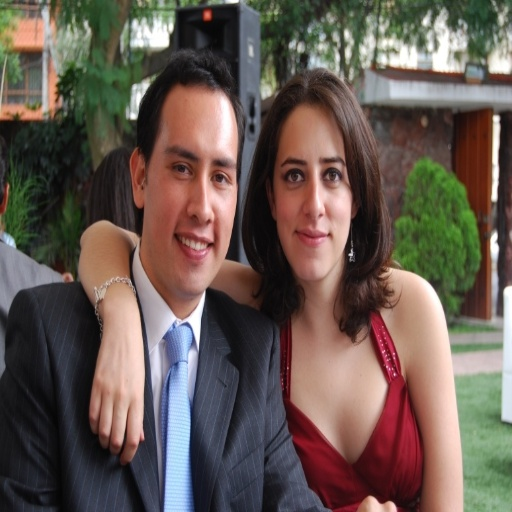hand: (80, 276, 143, 478), (355, 494, 398, 511)
